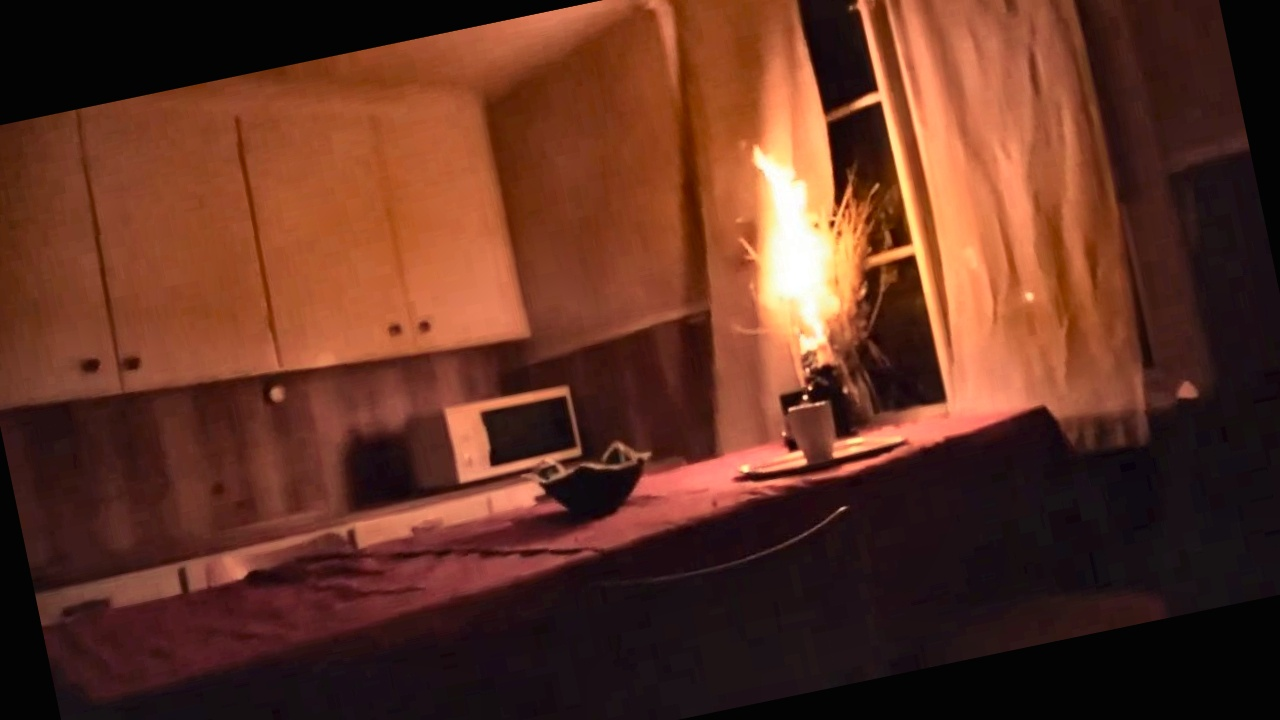fire: (671, 101, 890, 396)
